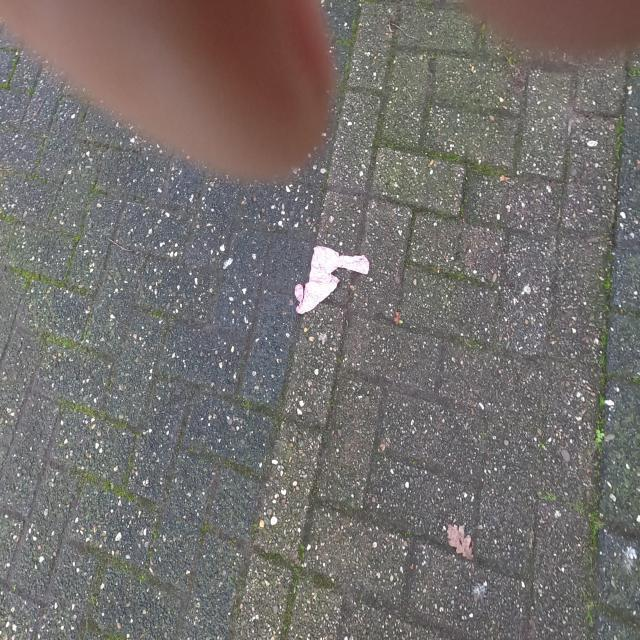Plastic: (294, 244, 371, 316)
